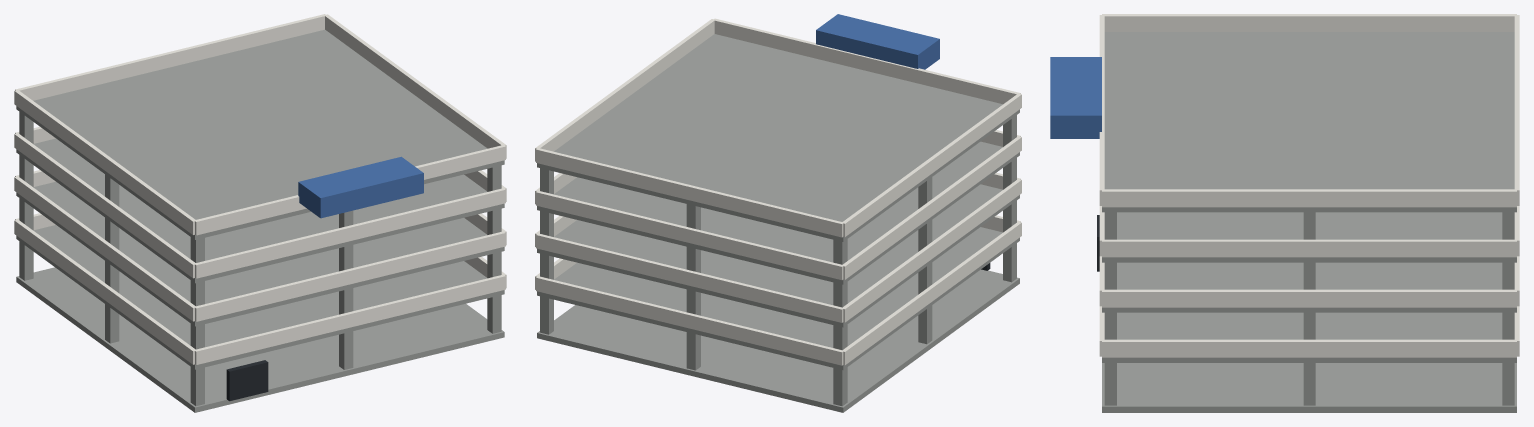
Rendered from garage.glb.
3 renders of one model, left to right at view 1: azimuth 30°, elevation 25°; view 2: azimuth 150°, elevation 25°; view 3: azimuth 270°, elevation 25°, orthographic. The views are drawn at different scales.
Parts seen in each view (by area): view 1: Cube.001; view 2: Cube.001; view 3: Cube.001.
Part boxes in pixels (x1,y1,x2,y2): Cube.001: [14, 14, 506, 412]; Cube.001: [535, 14, 1021, 412]; Cube.001: [1050, 14, 1519, 412].
Size of the model in its own units: 24.3 by 15.25 by 27.15.
